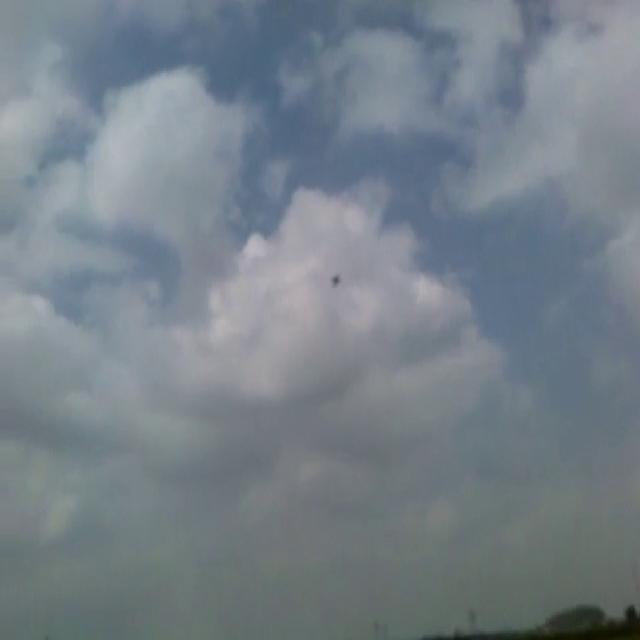drone: (328, 265, 343, 288)
